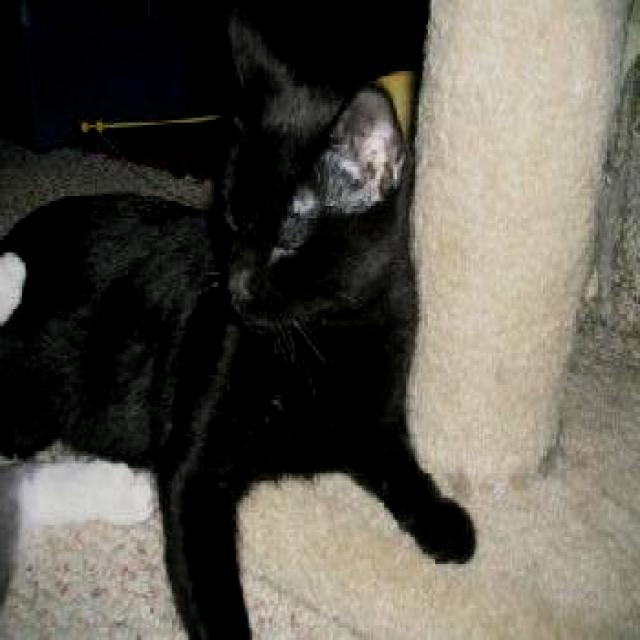Kucing: (37, 75, 452, 588)
